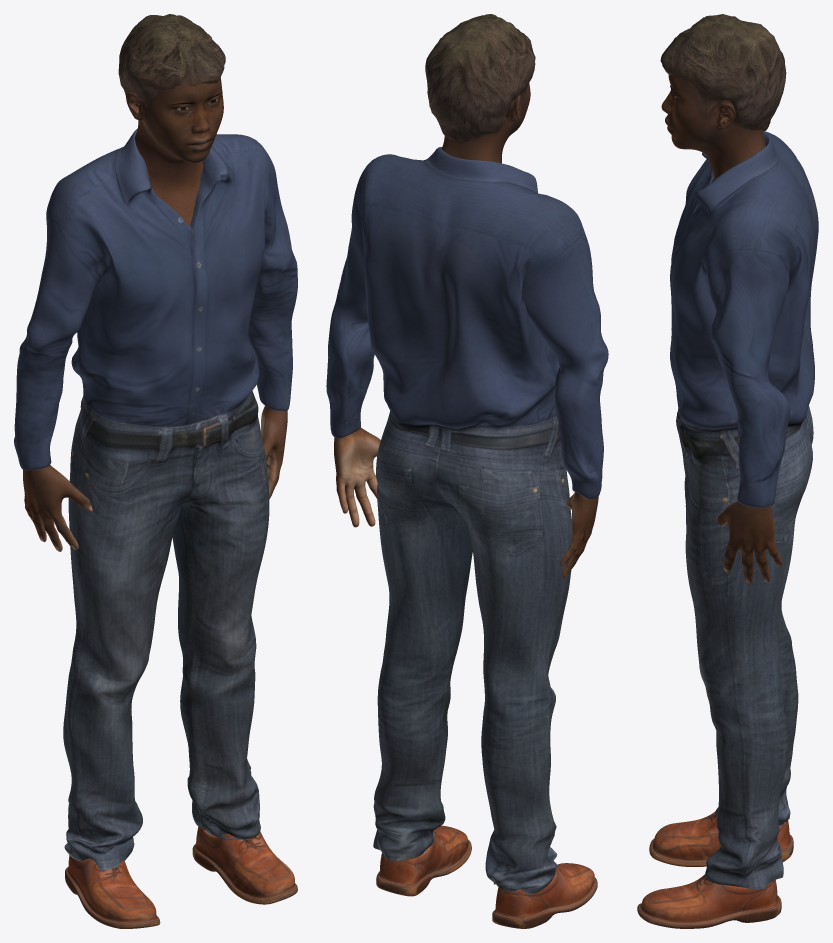
Rendered from customer.glb.
The picture shows the model from 3 angles, left to right: view 1: azimuth 30°, elevation 25°; view 2: azimuth 150°, elevation 25°; view 3: azimuth 270°, elevation 25°; orthographic projection.
Visible parts, largest first — view 1: Shirt · collar, placket and cuffs, Jeans · belt, pockets and hems, Human · face, ears, neck and articulated hands, Footwear · welt, laces and soles, Hair · authored short waves; view 2: Shirt · collar, placket and cuffs, Jeans · belt, pockets and hems, Hair · authored short waves, Footwear · welt, laces and soles, Human · face, ears, neck and articulated hands; view 3: Shirt · collar, placket and cuffs, Jeans · belt, pockets and hems, Hair · authored short waves, Human · face, ears, neck and articulated hands, Footwear · welt, laces and soles.
Part boxes in pixels (bbox=[...]): Shirt · collar, placket and cuffs: bbox=[14, 129, 297, 470]; Jeans · belt, pockets and hems: bbox=[63, 417, 269, 870]; Human · face, ears, neck and articulated hands: bbox=[23, 77, 287, 551]; Footwear · welt, laces and soles: bbox=[65, 826, 297, 928]; Hair · authored short waves: bbox=[118, 14, 225, 108]; Shirt · collar, placket and cuffs: bbox=[326, 147, 608, 499]; Jeans · belt, pockets and hems: bbox=[373, 432, 572, 894]; Hair · authored short waves: bbox=[425, 14, 535, 143]; Footwear · welt, laces and soles: bbox=[376, 825, 597, 928]; Human · face, ears, neck and articulated hands: bbox=[334, 83, 598, 578]; Shirt · collar, placket and cuffs: bbox=[670, 131, 818, 508]; Jeans · belt, pockets and hems: bbox=[679, 420, 813, 889]; Hair · authored short waves: bbox=[660, 14, 786, 131]; Human · face, ears, neck and articulated hands: bbox=[661, 74, 782, 583]; Footwear · welt, laces and soles: bbox=[637, 812, 793, 928].
Bounding box in the file's own units: 0.5729 × 1.75 × 0.332.
6 materials, 6 textured.
